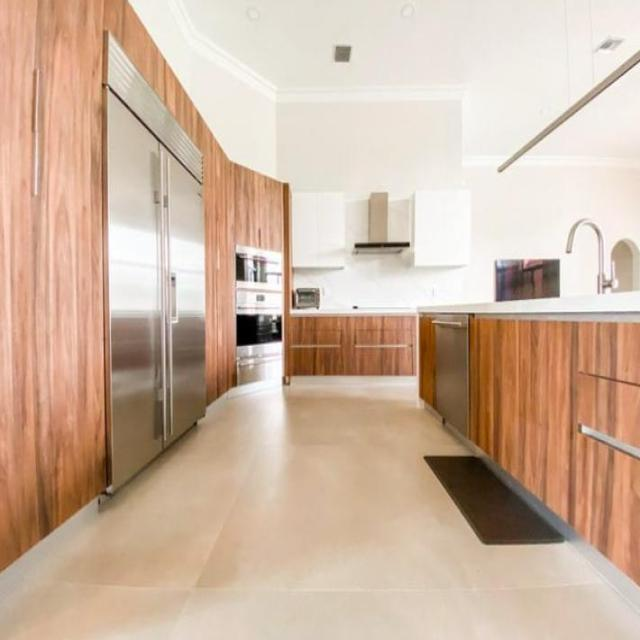dishwasher: (432, 311, 469, 436)
